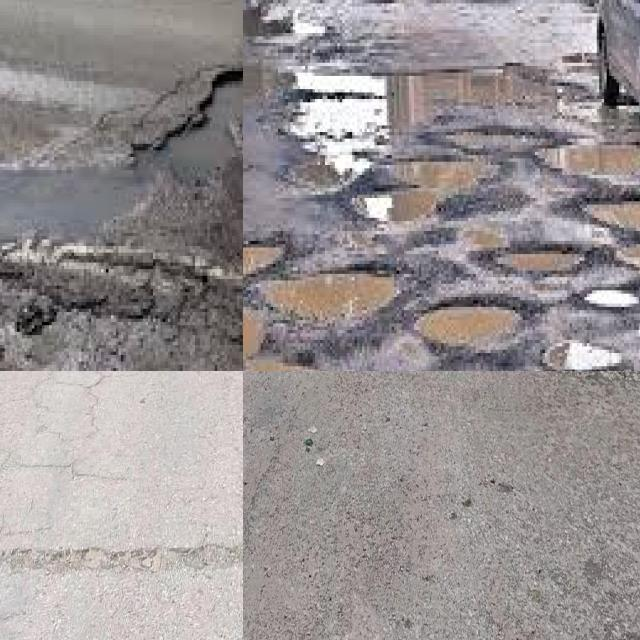Pothole: (0, 70, 243, 355), (310, 106, 476, 205), (0, 546, 243, 572), (273, 277, 392, 317), (421, 317, 508, 356), (547, 145, 636, 175), (505, 238, 572, 277), (473, 287, 530, 327), (587, 201, 640, 226)
